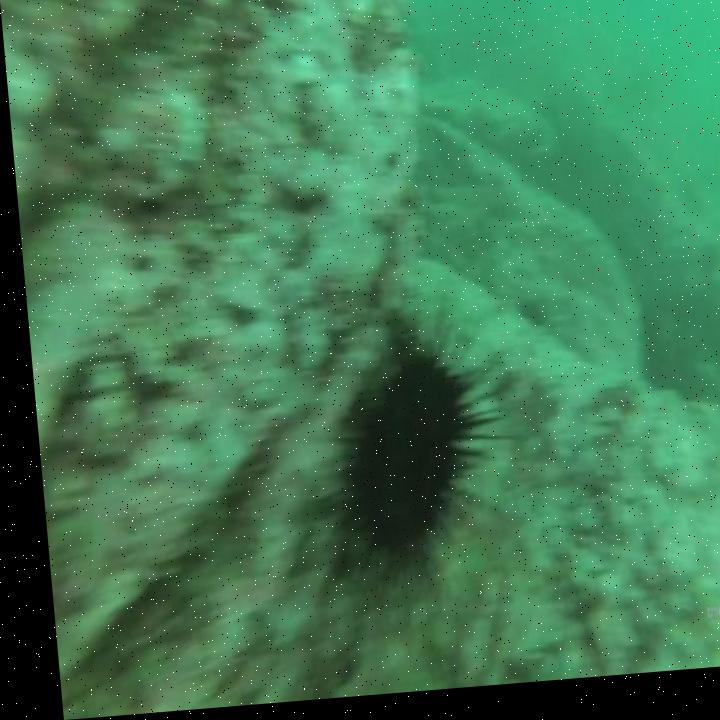echinus: (287, 319, 511, 618)
